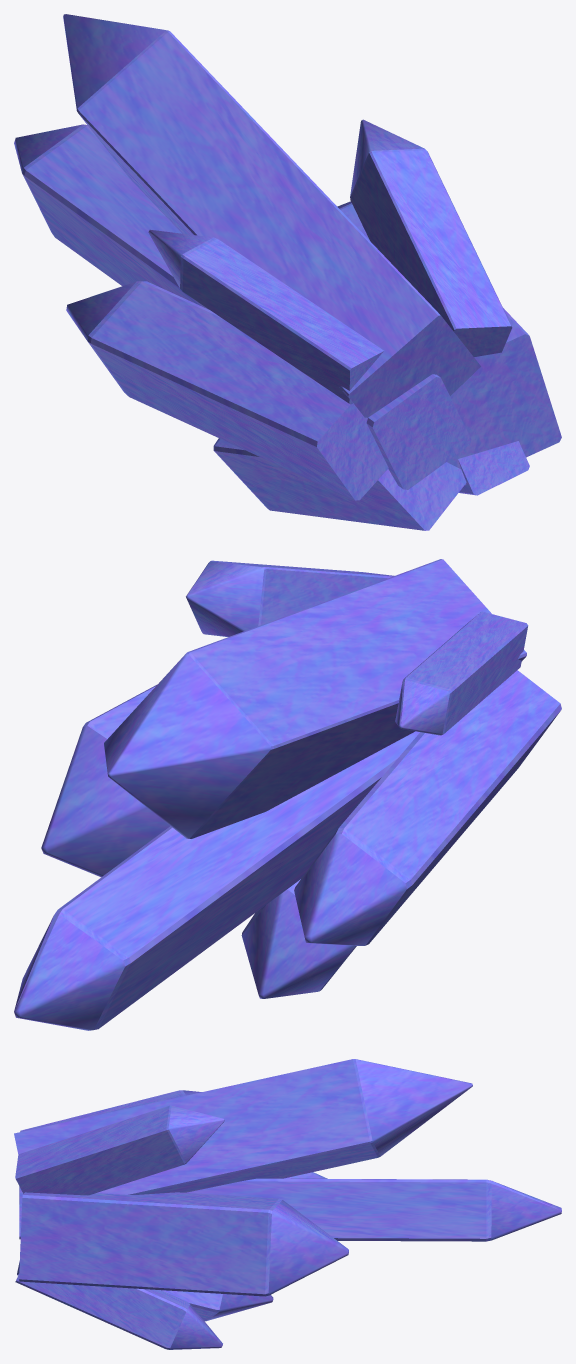
Rendered from crystal.obj.
3 views of the same model, one above another, from view 1: azimuth 30°, elevation 25°; view 2: azimuth 150°, elevation 25°; view 3: azimuth 270°, elevation 25° (orthographic). The views are drawn at different scales.
Parts seen in each view (by area): view 1: CrystalCrack; view 2: CrystalCrack; view 3: CrystalCrack.
Part boxes in pixels (x1,y1,x2,y2): CrystalCrack: (14,14,561,530); CrystalCrack: (14,559,561,1030); CrystalCrack: (14,1059,561,1349).
Size of the model in its own units: 23.69 by 26.86 by 50.46.
